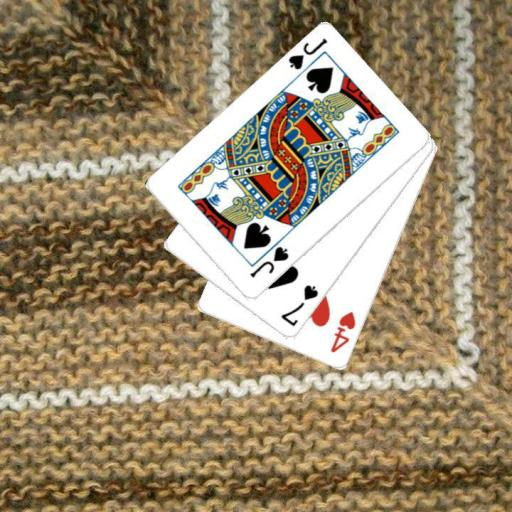4H: (327, 309, 358, 355)
7S: (278, 282, 320, 329)
JS: (285, 35, 330, 72), (247, 243, 291, 280)
